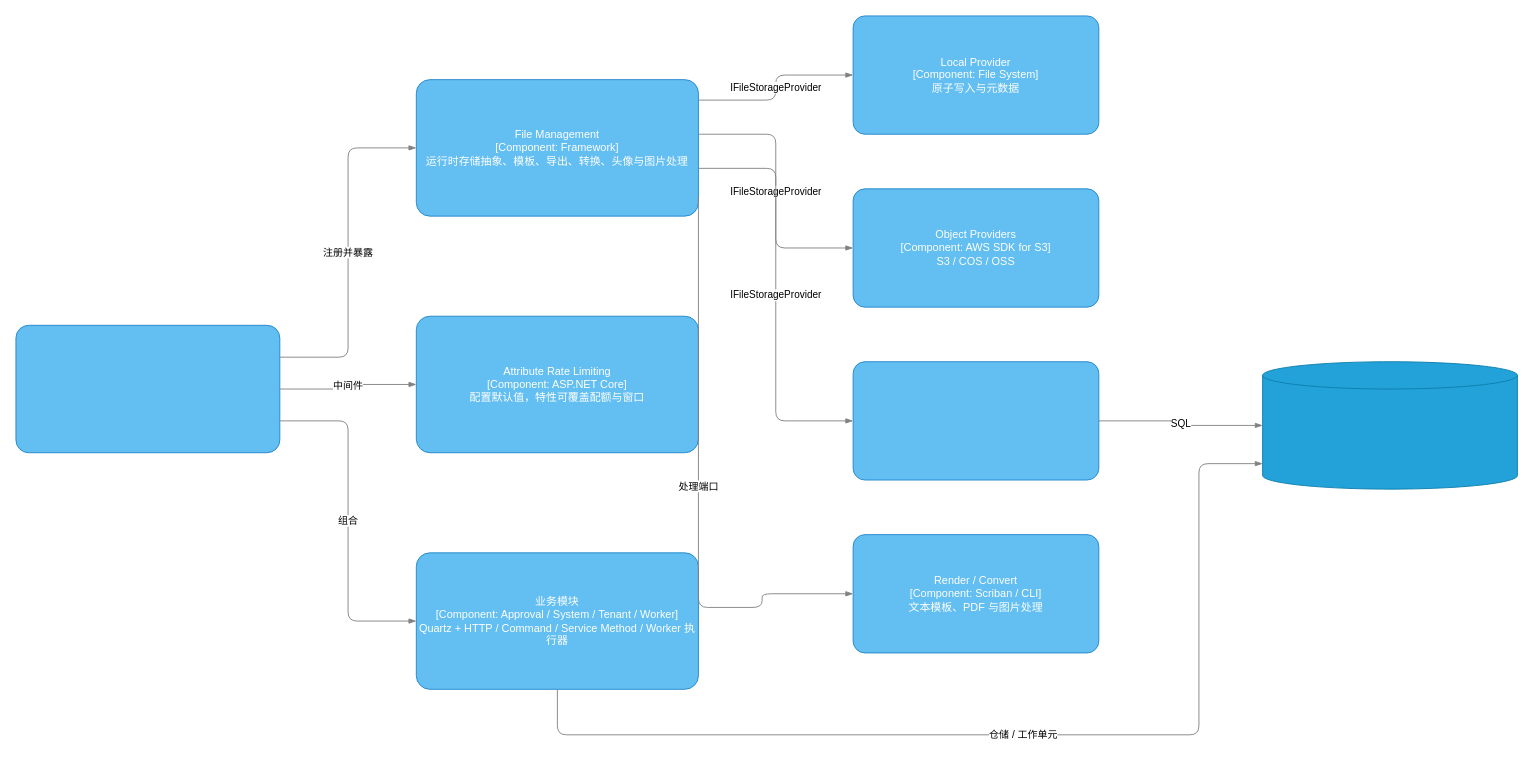
The diagram is 1533 pixels wide and 758 high, and some of its shapes have lost their labels. Each missing label, with the centre of its shape:
Database Provider [Component: SqlSugar] BLOB 文件内容与元数据: (x=975, y=420)
Host 组合根 [Component: ABP Module] 加载模块、配置与 Conventional Controllers: (x=147, y=388)
关系数据库 [Container: SQL] 业务表与 framework_stored_file: (x=1389, y=425)
